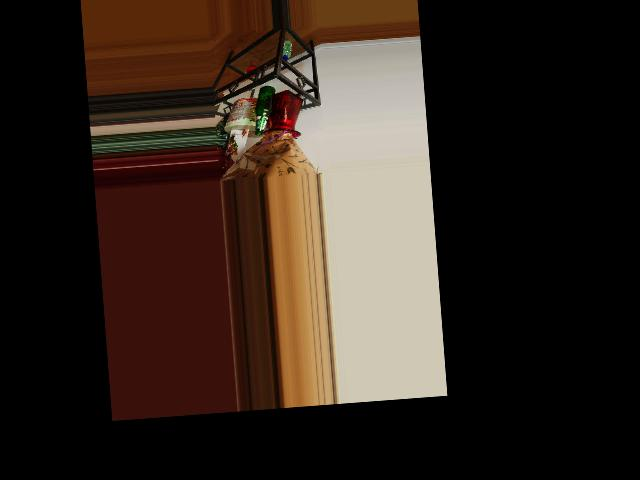beer: (251, 84, 278, 135)
